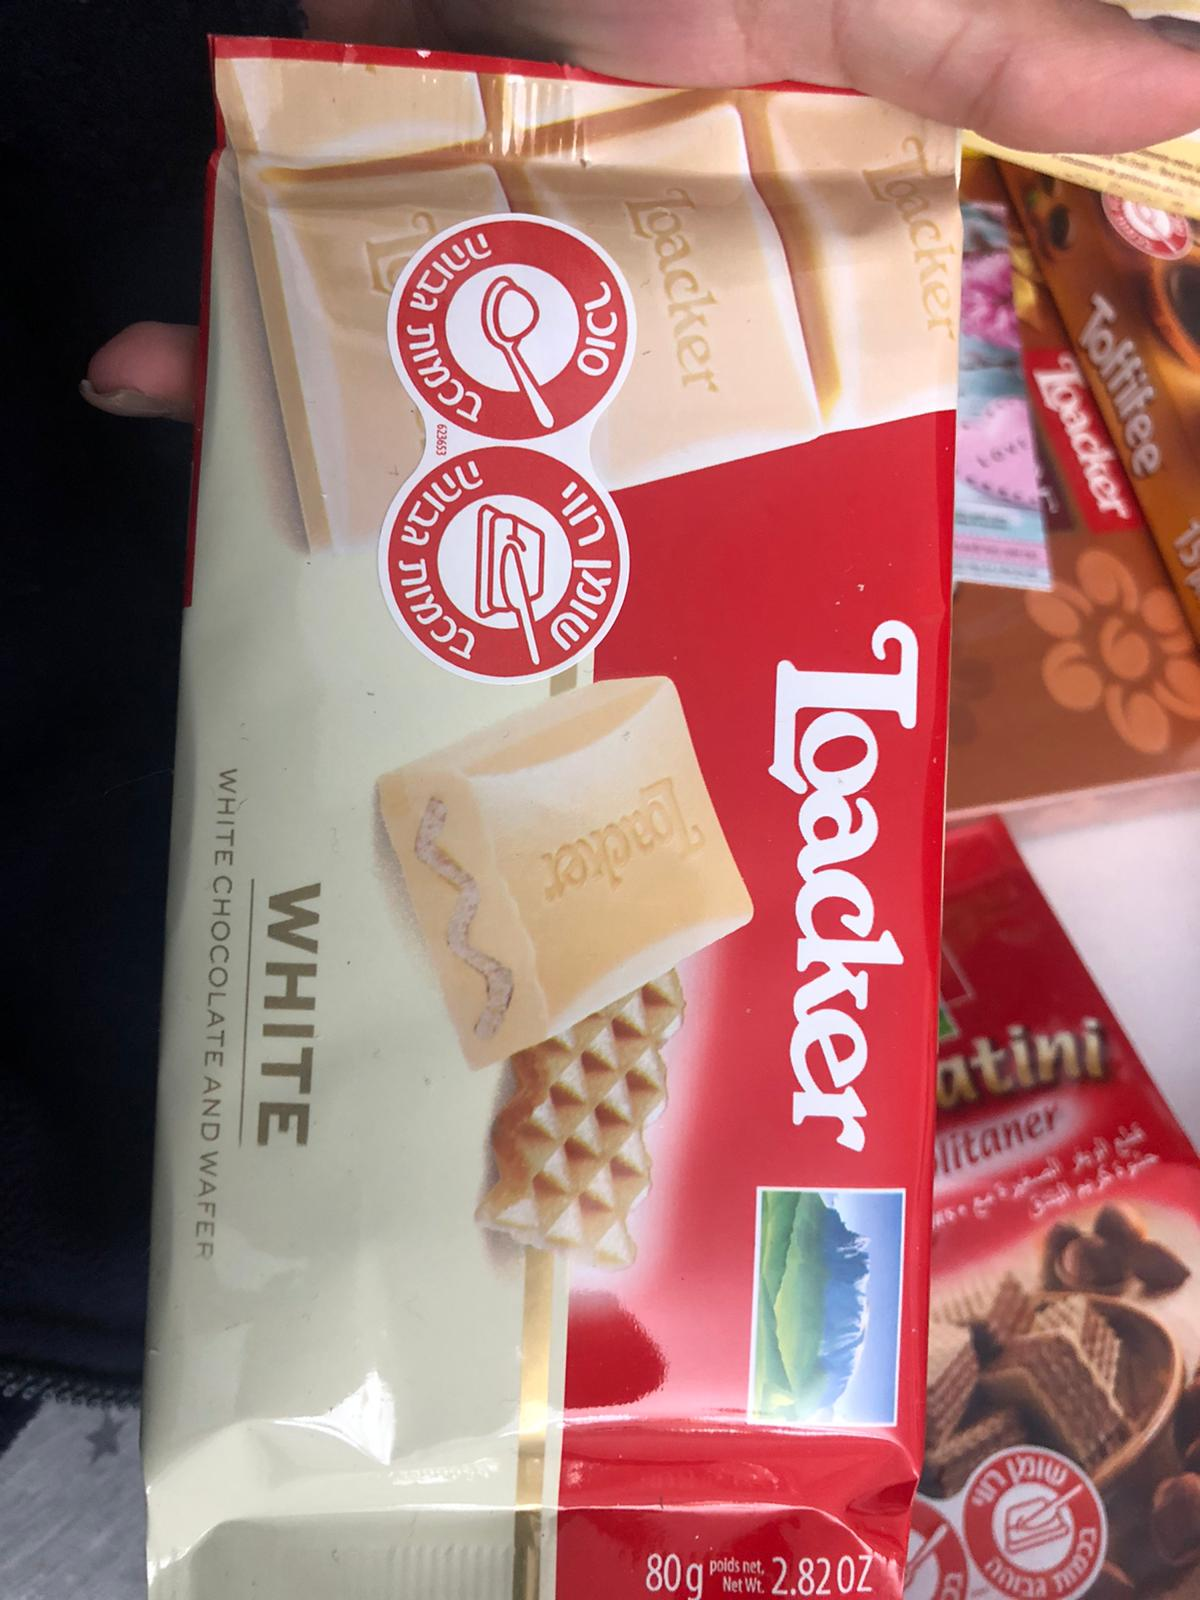fat: (374, 443, 632, 683)
sugar: (387, 210, 634, 446)
